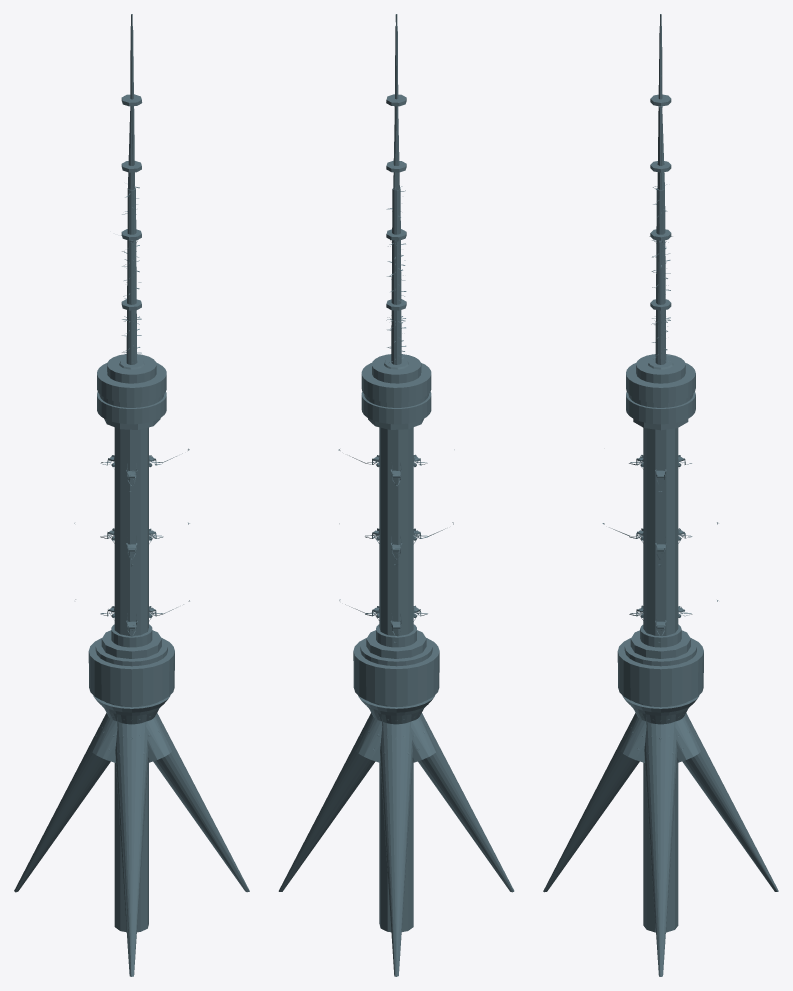
File: tv-tower-low.glb
3 renders of one model, left to right at view 1: azimuth 30°, elevation 25°; view 2: azimuth 150°, elevation 25°; view 3: azimuth 270°, elevation 25°, orthographic.
Visible parts, largest first — view 1: tvtower_material_0; view 2: tvtower_material_0; view 3: tvtower_material_0.
Boxes of the visible parts, x1=… form: tvtower_material_0: x1=14, y1=14, x2=249, y2=976; tvtower_material_0: x1=278, y1=14, x2=514, y2=976; tvtower_material_0: x1=543, y1=14, x2=778, y2=976.
Bounding box in the file's own units: 221 × 1084 × 254.
